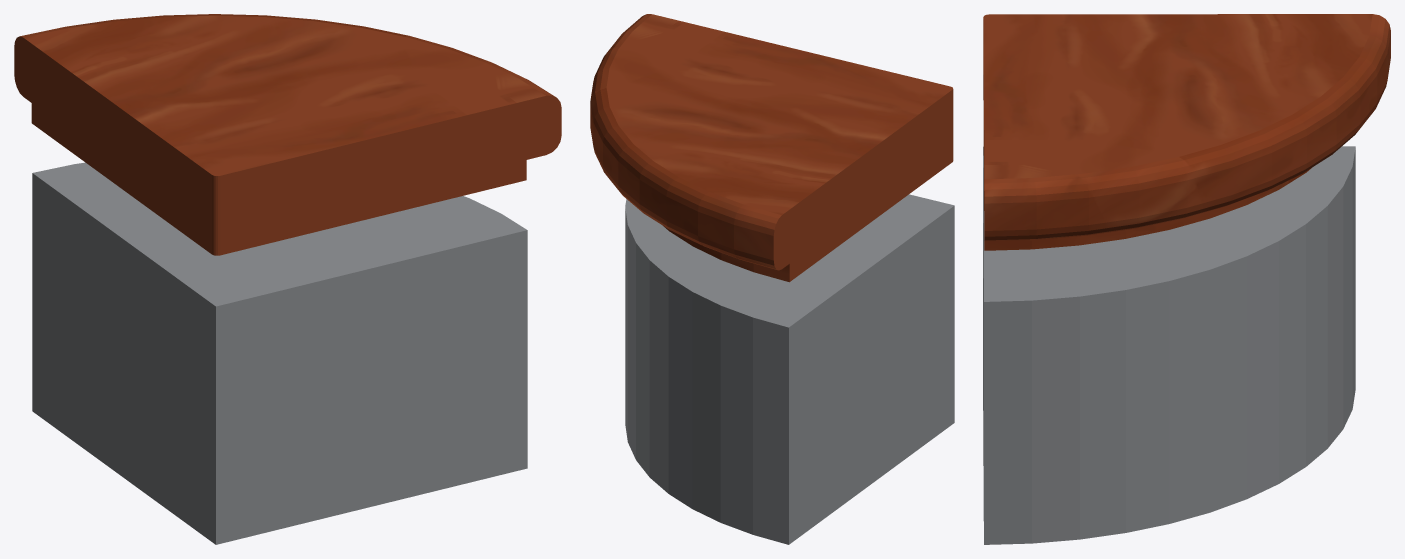
The model's file is SM_Counter_Round_Corner.fbx.
3 views of the same model, side by side, from view 1: azimuth 30°, elevation 25°; view 2: azimuth 150°, elevation 25°; view 3: azimuth 270°, elevation 25° (orthographic). The views are drawn at different scales.
Parts seen in each view (by area): view 1: CornerR_SGCabinet.BOTTOM, CornerR_SGCabinet.TOP; view 2: CornerR_SGCabinet.BOTTOM, CornerR_SGCabinet.TOP; view 3: CornerR_SGCabinet.BOTTOM, CornerR_SGCabinet.TOP.
Boxes of the visible parts, x1,y1,x2,y2 form: CornerR_SGCabinet.BOTTOM: [32, 162, 527, 544]; CornerR_SGCabinet.TOP: [14, 14, 561, 255]; CornerR_SGCabinet.BOTTOM: [625, 194, 954, 544]; CornerR_SGCabinet.TOP: [590, 14, 953, 282]; CornerR_SGCabinet.BOTTOM: [983, 146, 1355, 544]; CornerR_SGCabinet.TOP: [983, 14, 1390, 250].
Size of the model in its own units: 346 by 350 by 345.
